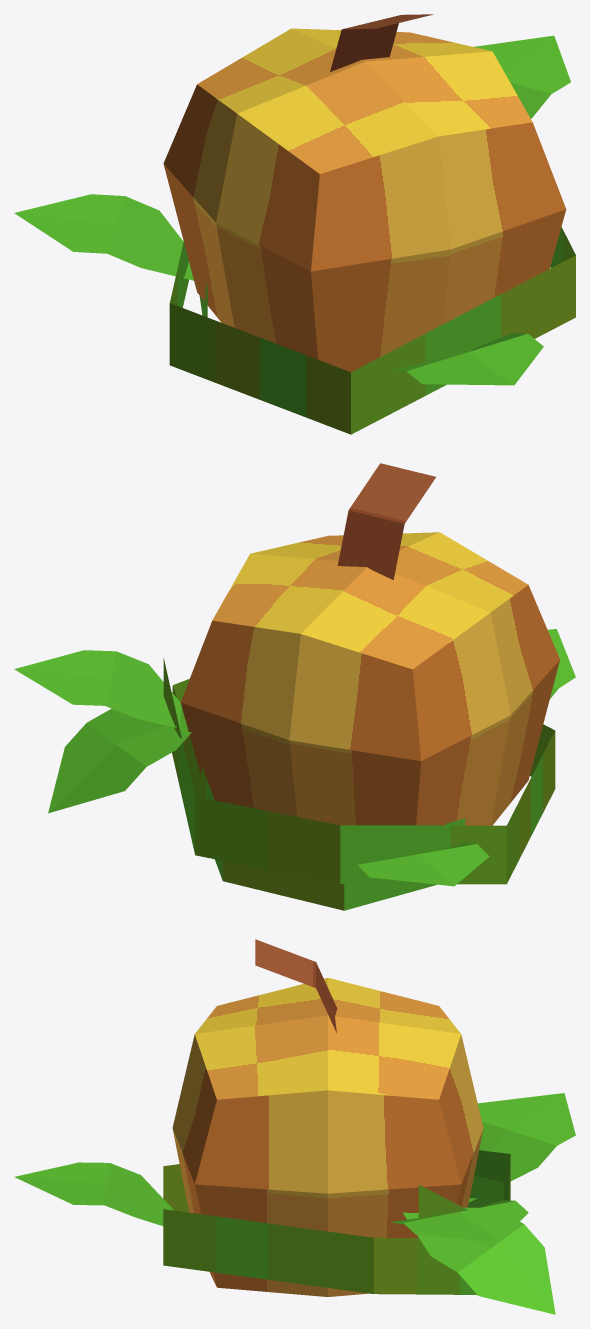
Rendered from Pumpkin_001-3.fbx.
3 views of the same model, one above another, from view 1: azimuth 30°, elevation 25°; view 2: azimuth 150°, elevation 25°; view 3: azimuth 270°, elevation 25° (orthographic). The views are drawn at different scales.
Visible parts, largest first — view 1: Pumpkin_001-3; view 2: Pumpkin_001-3; view 3: Pumpkin_001-3.
Boxes of the visible parts, x1,y1,x2,y2 form: Pumpkin_001-3: (14,14,575,434); Pumpkin_001-3: (14,463,575,910); Pumpkin_001-3: (14,939,575,1314).
Bounding box in the file's own units: 52.85 × 35.11 × 56.47.
Materials: 1 (1 with a texture image).
